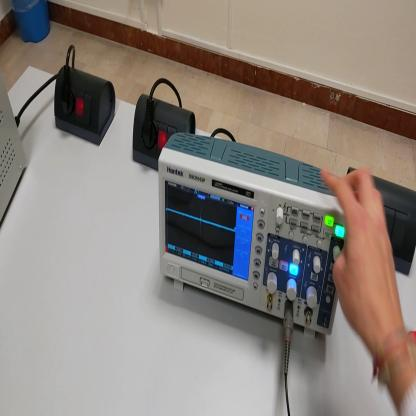hand: (320, 163, 406, 354)
oscilloscope: (158, 132, 346, 343)
power supply: (2, 58, 23, 230)
socket: (132, 89, 197, 172), (53, 67, 119, 147)
